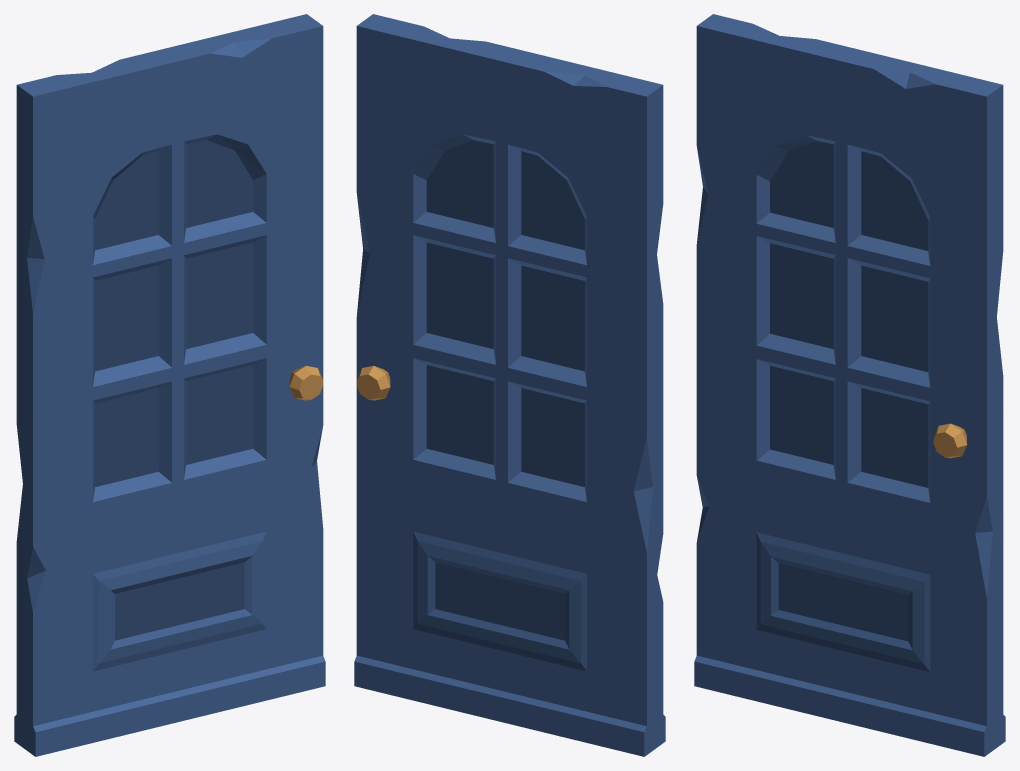
Rendered from SM_Bld_Door_01.glb.
3 views of the same model, side by side, from view 1: azimuth 30°, elevation 25°; view 2: azimuth 150°, elevation 25°; view 3: azimuth 330°, elevation 25° (orthographic).
Visible parts, largest first — view 1: SM_Bld_Door_01; view 2: SM_Bld_Door_01; view 3: SM_Bld_Door_01.
Part boxes in pixels (x1,y1,x2,y2): SM_Bld_Door_01: [14, 14, 325, 756]; SM_Bld_Door_01: [354, 14, 665, 756]; SM_Bld_Door_01: [694, 14, 1005, 756].
Size of the model in its own units: 1.03 by 2.22 by 0.2831.
1 material, 1 textured.
